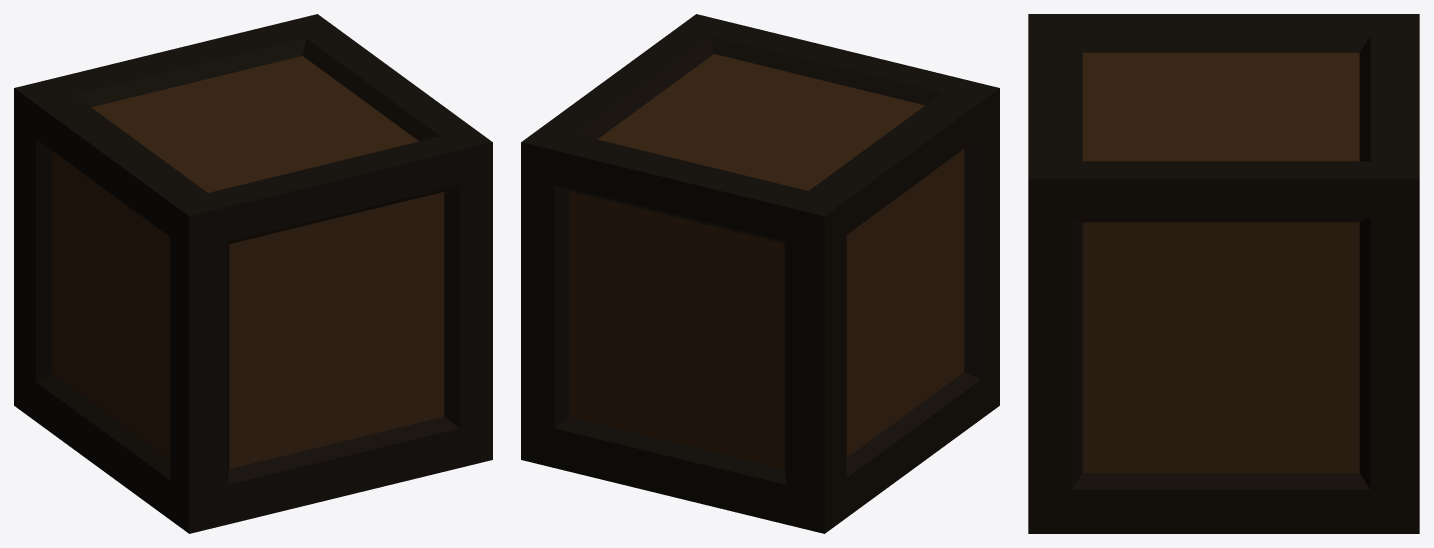
File: Crate.obj
The picture shows the model from 3 angles, left to right: view 1: azimuth 30°, elevation 25°; view 2: azimuth 150°, elevation 25°; view 3: azimuth 270°, elevation 25°; orthographic projection. The views are drawn at different scales.
Visible parts, largest first — view 1: Cube.037, Cube.035; view 2: Cube.037, Cube.035; view 3: Cube.037, Cube.035.
Boxes of the visible parts, left/top/right/bottom form: Cube.037: left=14, top=14, right=492, bottom=533; Cube.035: left=52, top=56, right=444, bottom=468; Cube.037: left=521, top=14, right=999, bottom=533; Cube.035: left=569, top=54, right=964, bottom=468; Cube.037: left=1028, top=14, right=1419, bottom=533; Cube.035: left=1082, top=52, right=1359, bottom=473.
Bounding box in the file's own units: 2 × 2 × 2.
